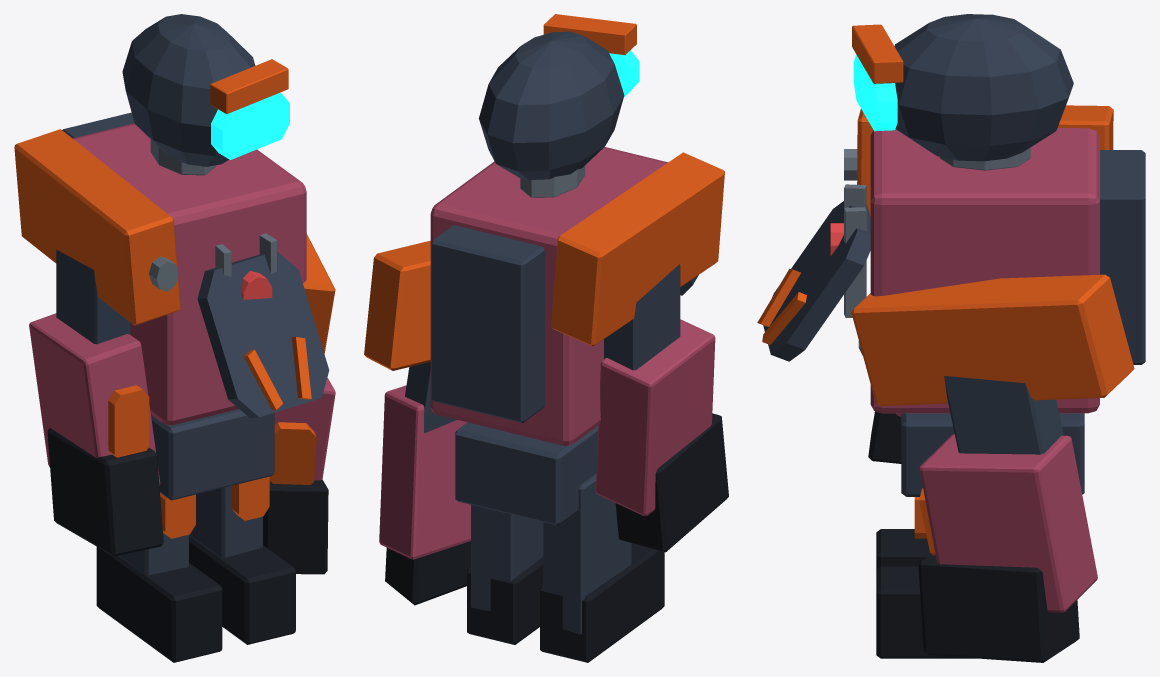
File: enemy_standard__critical.glb
3 views of the same model, side by side, from view 1: azimuth 30°, elevation 25°; view 2: azimuth 150°, elevation 25°; view 3: azimuth 270°, elevation 25° (orthographic). The views are drawn at different scales.
Parts seen in each view (by area): view 1: ROLE_primary, ROLE_threat, ROLE_accent, ROLE_rubber, ROLE_interaction, ROLE_bareMetal, ROLE_critical; view 2: ROLE_primary, ROLE_threat, ROLE_accent, ROLE_rubber, ROLE_bareMetal, ROLE_interaction; view 3: ROLE_threat, ROLE_primary, ROLE_accent, ROLE_rubber, ROLE_bareMetal, ROLE_interaction.
Boxes of the visible parts, x1,y1,x2,y2 form: ROLE_primary: [56, 14, 329, 575]; ROLE_threat: [29, 123, 335, 485]; ROLE_accent: [14, 59, 335, 538]; ROLE_rubber: [47, 428, 328, 662]; ROLE_interaction: [211, 93, 289, 159]; ROLE_bareMetal: [148, 139, 276, 291]; ROLE_critical: [241, 271, 272, 299]; ROLE_primary: [405, 31, 698, 634]; ROLE_threat: [379, 147, 715, 559]; ROLE_accent: [364, 14, 724, 370]; ROLE_rubber: [385, 413, 728, 662]; ROLE_bareMetal: [520, 165, 585, 197]; ROLE_interaction: [609, 50, 639, 96]; ROLE_threat: [870, 128, 1099, 612]; ROLE_primary: [763, 14, 1145, 496]; ROLE_accent: [757, 24, 1134, 555]; ROLE_rubber: [868, 411, 1079, 662]; ROLE_bareMetal: [844, 147, 1030, 355]; ROLE_interaction: [853, 54, 897, 131].
Size of the model in its own units: 2.13 by 4.35 by 2.5.
